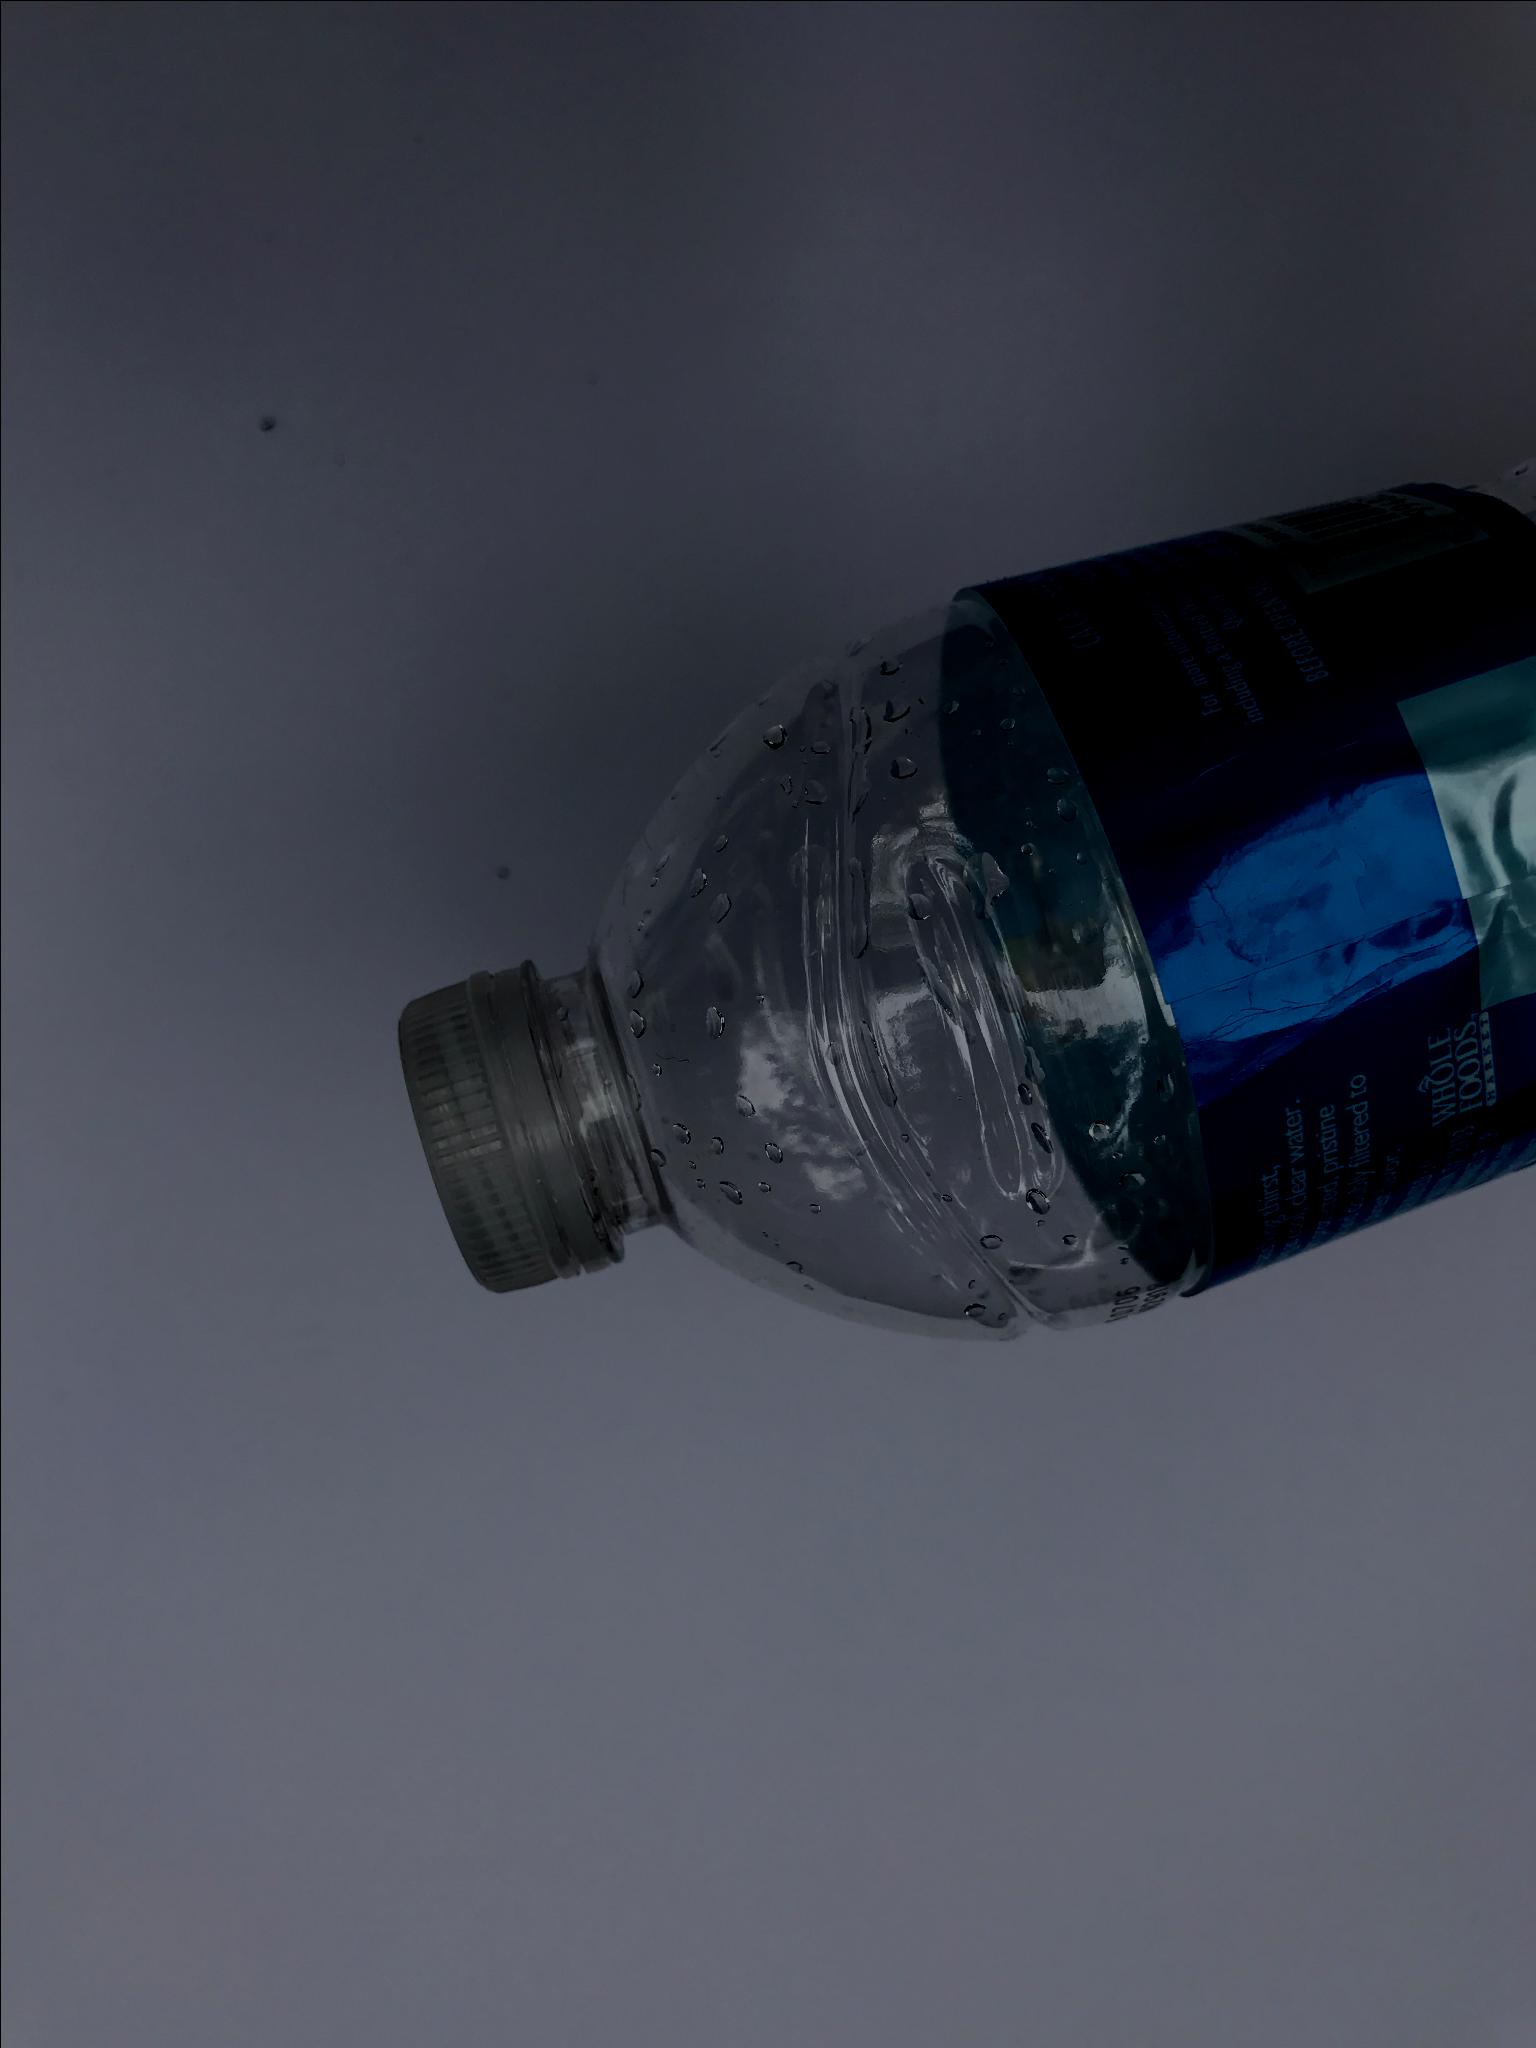Plastic: (373, 440, 1534, 1369)
